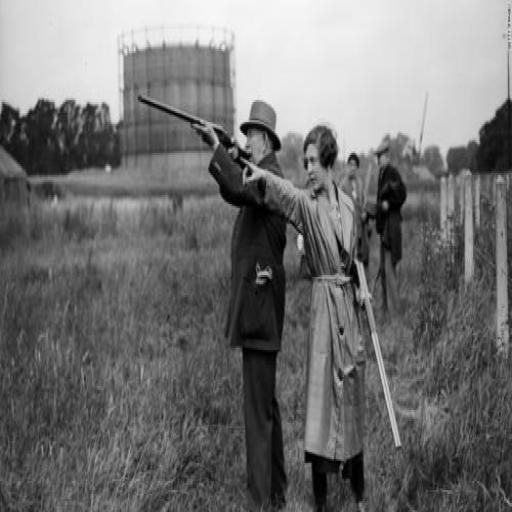shooting: (238, 122, 374, 510), (194, 97, 293, 510)
